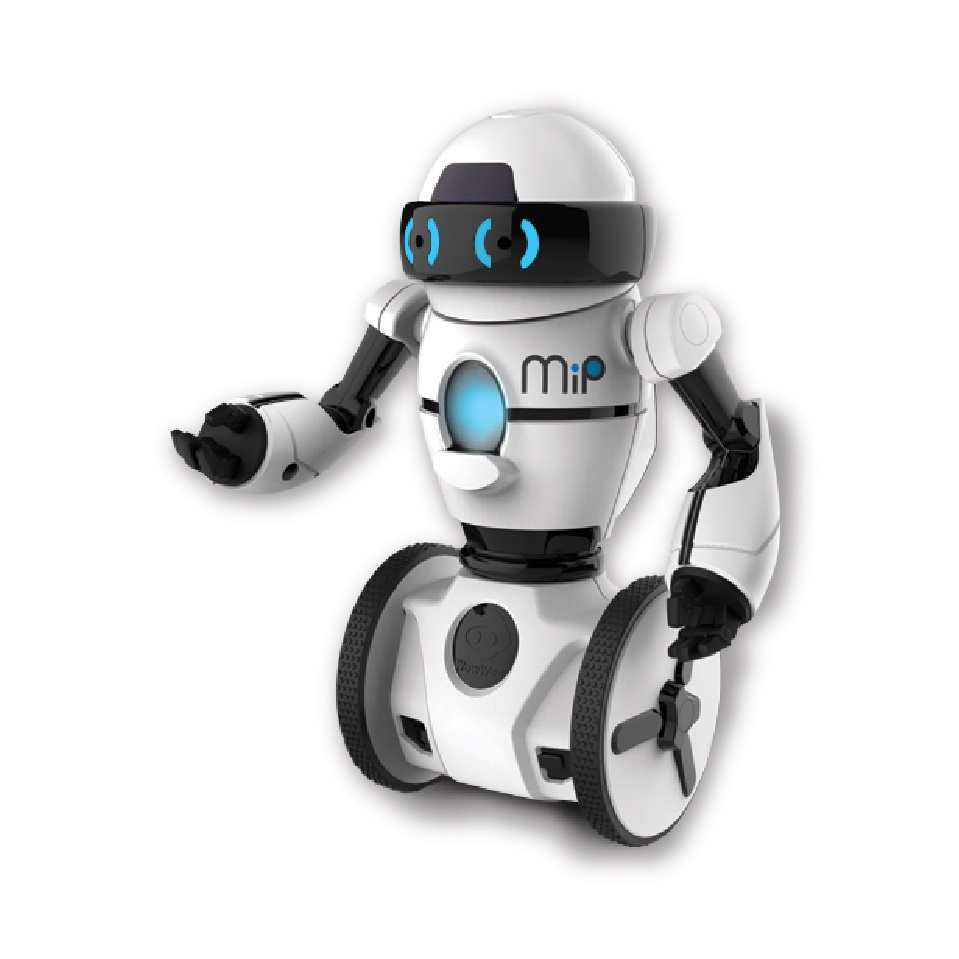person-like: (162, 97, 782, 853)
